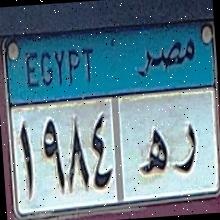1: (16, 118, 40, 202)
4: (88, 109, 116, 191)
8: (62, 112, 92, 195)
9: (40, 115, 66, 194)
haa: (138, 126, 171, 178)
raa: (170, 118, 202, 182)
